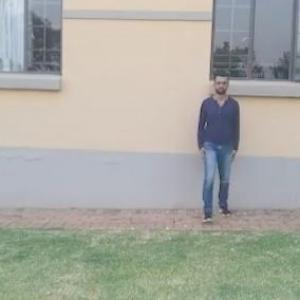follow: (197, 68, 242, 218)
